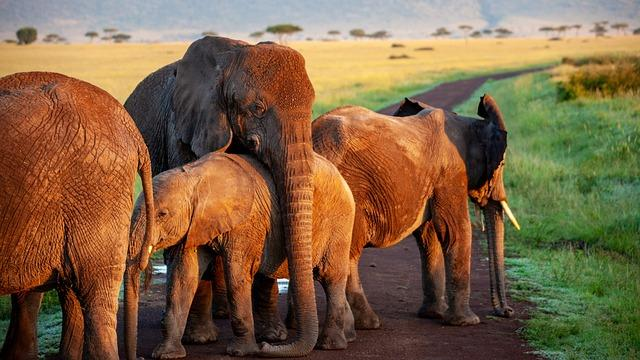Non_Gorille: (14, 18, 558, 350)
